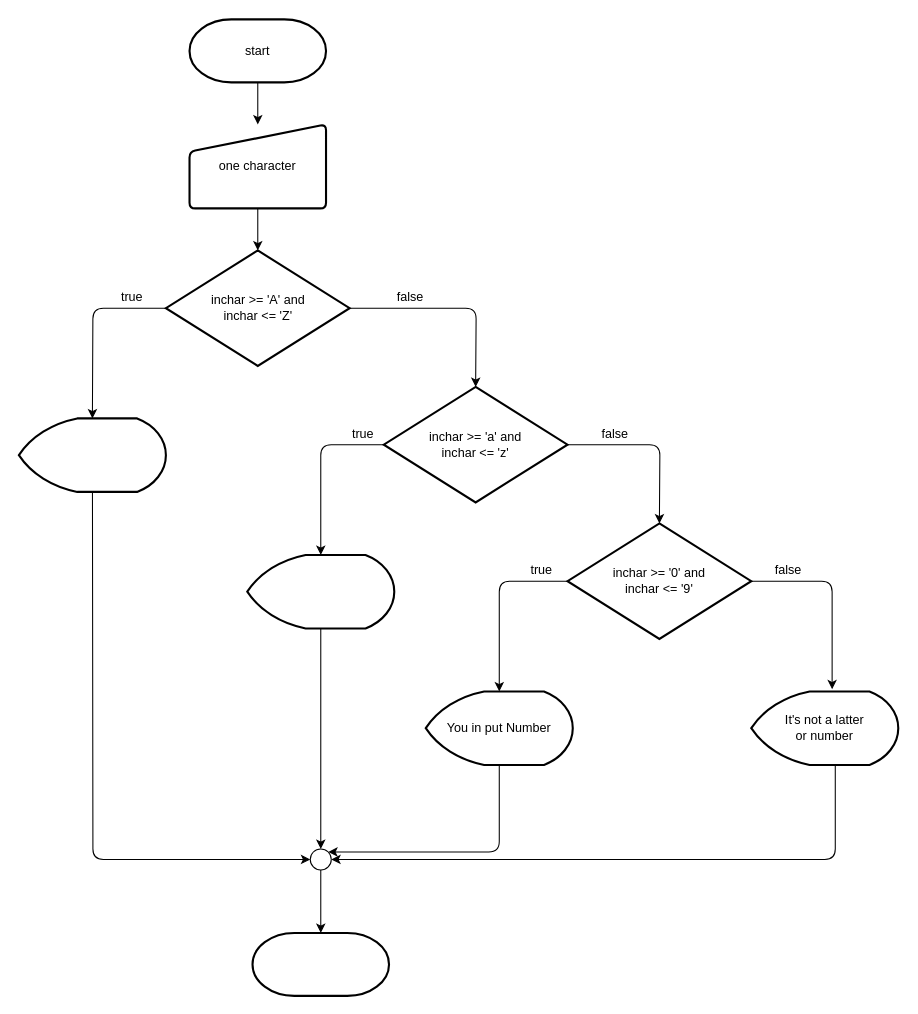
The diagram is 918 pixels wide and 1014 high, and some of its shapes have lost their labels. Here are the shapes that lost their labels. From the top down, the box of each, then its label:
(17, 417, 166, 492): You in put Upper Case Letter
(246, 553, 395, 629): You in put Lower Case Letter
(251, 931, 390, 996): end
